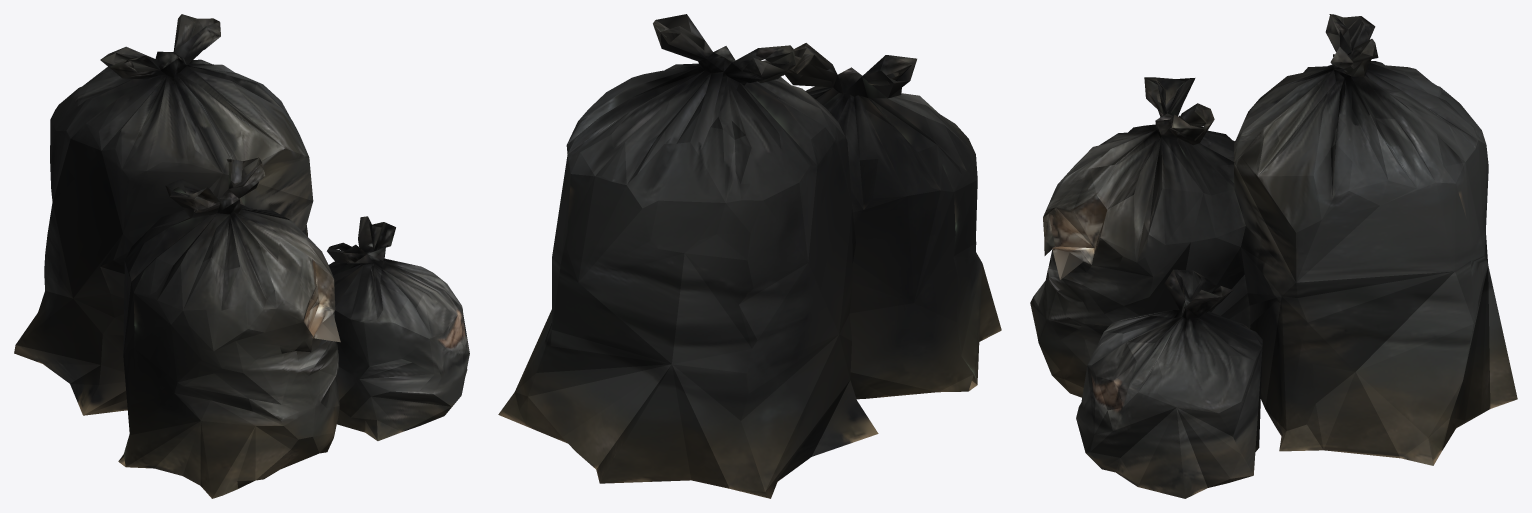
File: Trash bags only.fbx
3 renders of one model, left to right at view 1: azimuth 30°, elevation 25°; view 2: azimuth 150°, elevation 25°; view 3: azimuth 270°, elevation 25°, orthographic. The views are drawn at different scales.
Parts seen in each view (by area): view 1: node_0; view 2: node_0; view 3: node_0.
Part boxes in pixels (left/top/right/bottom): node_0: left=14, top=14, right=469, bottom=498; node_0: left=498, top=14, right=1001, bottom=498; node_0: left=1030, top=14, right=1517, bottom=498.
Size of the model in its own units: 0.4894 by 0.4545 by 0.5538.
1 material, 1 textured.
